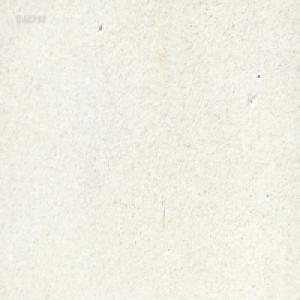Wrench: (164, 0, 171, 5)
